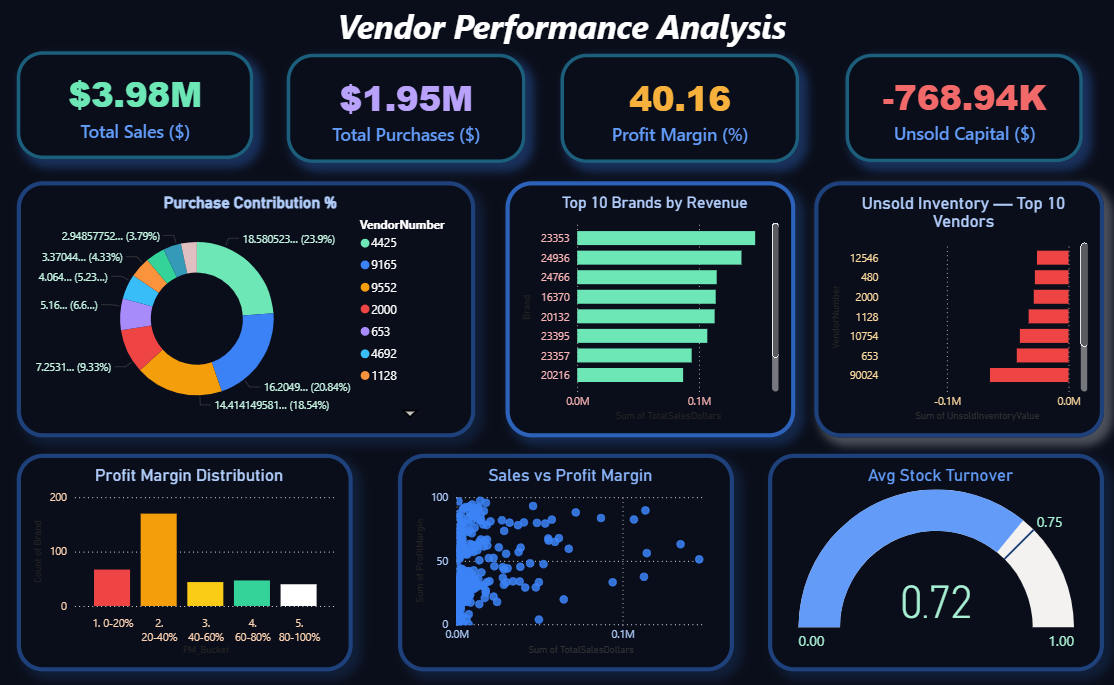

Layout of this report page (visuals, bound fields, positions):
{"tool":"powerbi","page":{"name":"Page 1","canvas":[1285,800],"ordinal":0},"visuals":[{"type":"textbox","box":[4.3,11.4,1280,72.9],"z":0},{"type":"card","fields":{"Values":["Sum(BrandPerformance.TotalSalesDollars)"]},"box":[21.7,70,270,123.3],"z":1000},{"type":"card","fields":{"Values":["Sum(PurchaseContribution.TotalPurchaseDollars)"]},"box":[330,72.5,272.5,125],"z":2000},{"type":"card","fields":{"Values":["Avg(BrandPerformance.ProfitMargin)"]},"box":[642.5,72.5,272.5,125],"z":3000},{"type":"card","fields":{"Values":["Sum(VendorSalesSummary.UnsoldInventoryValue)"]},"box":[968.6,72.9,271.4,124.3],"z":4000},{"type":"donutChart","title":"Purchase Contribution %","fields":{"Category":["VendorSalesSummary.VendorNumber"],"Y":["Sum(PurchaseContribution.Purchase_Contribution%)"]},"box":[21.4,218.6,524.3,292.9],"z":5000},{"type":"clusteredBarChart","title":"Top 10 Brands by Revenue","fields":{"Category":["BrandPerformance.Brand"],"Y":["Sum(BrandPerformance.TotalSalesDollars)"]},"box":[580,218.6,331.4,292.9],"z":6000},{"type":"clusteredBarChart","title":"Unsold Inventory — Top 10 Vendors","fields":{"Y":["Sum(VendorSalesSummary.UnsoldInventoryValue)"],"Category":["VendorSalesSummary.VendorNumber"]},"box":[932.9,218.6,331.4,292.9],"z":7000},{"type":"clusteredColumnChart","title":"Profit Margin Distribution","fields":{"Category":["BrandPerformance.PM_Bucket"],"Y":["CountNonNull(BrandPerformance.Brand)"]},"box":[21.4,530,384.3,248.6],"z":8000},{"type":"scatterChart","title":"Sales vs Profit Margin","fields":{"X":["Sum(BrandPerformance.TotalSalesDollars)"],"Y":["Sum(BrandPerformance.ProfitMargin)"],"Category":["BrandPerformance.Brand"]},"box":[457.1,530,384.3,248.6],"z":9000},{"type":"gauge","title":"Avg Stock Turnover","fields":{"Y":["Avg(LowTurnoverVendor.StockTurnover)"]},"box":[880,530,384.3,248.6],"z":10000}]}

Visuals, with their boxes in screenshot pixels (x1, y1, x2, y2), scaled from the page's 1285x800 canvas onto the 1114x685 screenshot:
textbox: <box>4,10,1113,72</box>
card - Sum(BrandPerformance.TotalSalesDollars): <box>19,60,253,166</box>
card - Sum(PurchaseContribution.TotalPurchaseDollars): <box>286,62,522,169</box>
card - Avg(BrandPerformance.ProfitMargin): <box>557,62,793,169</box>
card - Sum(VendorSalesSummary.UnsoldInventoryValue): <box>840,62,1075,169</box>
"Purchase Contribution %" donutChart: <box>19,187,473,438</box>
"Top 10 Brands by Revenue" clusteredBarChart: <box>503,187,790,438</box>
"Unsold Inventory — Top 10 Vendors" clusteredBarChart: <box>809,187,1096,438</box>
"Profit Margin Distribution" clusteredColumnChart: <box>19,454,352,667</box>
"Sales vs Profit Margin" scatterChart: <box>396,454,729,667</box>
"Avg Stock Turnover" gauge: <box>763,454,1096,667</box>
